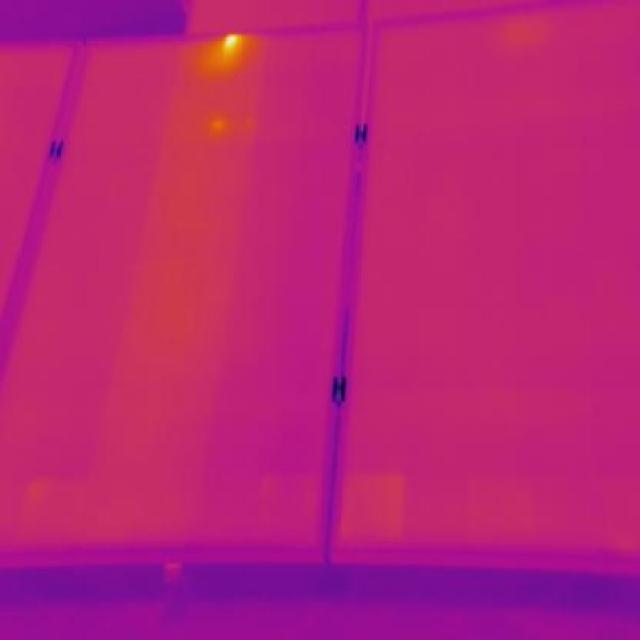hotspot: (212, 28, 250, 70)
